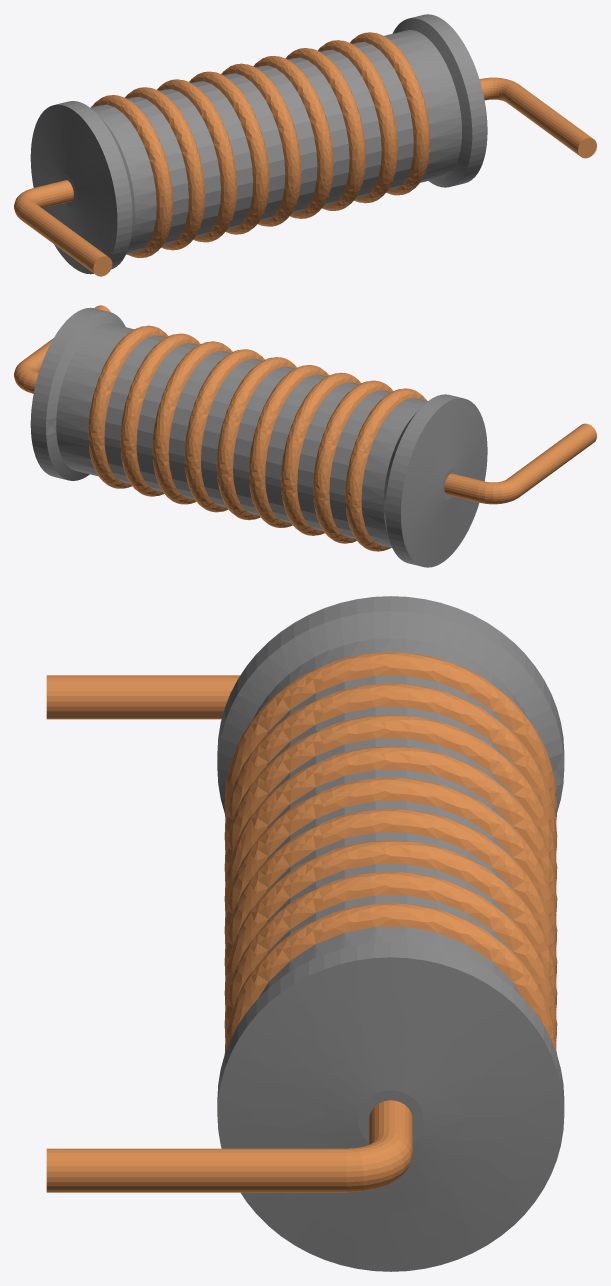
File: L_Axial_L16.0mm_D6.3mm_P20.32mm_Horizontal_Fastron_VHBCC.glb
3 renders of one model, top to bottom at view 1: azimuth 30°, elevation 25°; view 2: azimuth 150°, elevation 25°; view 3: azimuth 270°, elevation 25°, orthographic. The views are drawn at different scales.
Parts seen in each view (by area): view 1: Shape_IndexedFaceSet.029, Shape_IndexedFaceSet.005, Shape_IndexedFaceSet.026, Shape_IndexedFaceSet.021, Shape_IndexedFaceSet.019, Shape_IndexedFaceSet.025, Shape_IndexedFaceSet.011, Shape_IndexedFaceSet.017, Shape_IndexedFaceSet.023, Shape_IndexedFaceSet.015, Shape_IndexedFaceSet.007, Shape_IndexedFaceSet.013 (+16 smaller); view 2: Shape_IndexedFaceSet.029, Shape_IndexedFaceSet.005, Shape_IndexedFaceSet.026, Shape_IndexedFaceSet.011, Shape_IndexedFaceSet.025, Shape_IndexedFaceSet.013, Shape_IndexedFaceSet.015, Shape_IndexedFaceSet.019, Shape_IndexedFaceSet.023, Shape_IndexedFaceSet.017, Shape_IndexedFaceSet.021, Shape_IndexedFaceSet.007 (+16 smaller); view 3: Shape_IndexedFaceSet, Shape_IndexedFaceSet.008, Shape_IndexedFaceSet.027, Shape_IndexedFaceSet.021, Shape_IndexedFaceSet.017, Shape_IndexedFaceSet.023, Shape_IndexedFaceSet.011, Shape_IndexedFaceSet.015, Shape_IndexedFaceSet.013, Shape_IndexedFaceSet.025, Shape_IndexedFaceSet.019, Shape_IndexedFaceSet.007 (+16 smaller).
Boxes of the visible parts, <box> form: Shape_IndexedFaceSet.029: <box>30,104,117,274</box>; Shape_IndexedFaceSet.005: <box>384,30,461,182</box>; Shape_IndexedFaceSet.026: <box>90,104,156,254</box>; Shape_IndexedFaceSet.021: <box>157,79,237,242</box>; Shape_IndexedFaceSet.019: <box>189,71,269,234</box>; Shape_IndexedFaceSet.025: <box>91,95,172,257</box>; Shape_IndexedFaceSet.011: <box>318,40,397,203</box>; Shape_IndexedFaceSet.017: <box>221,63,301,226</box>; Shape_IndexedFaceSet.023: <box>125,87,205,250</box>; Shape_IndexedFaceSet.015: <box>253,56,333,218</box>; Shape_IndexedFaceSet.007: <box>350,32,429,195</box>; Shape_IndexedFaceSet.013: <box>285,48,365,210</box>; Shape_IndexedFaceSet.029: <box>401,398,487,567</box>; Shape_IndexedFaceSet.005: <box>56,323,133,476</box>; Shape_IndexedFaceSet.026: <box>361,398,427,547</box>; Shape_IndexedFaceSet.011: <box>120,333,200,496</box>; Shape_IndexedFaceSet.025: <box>345,388,426,551</box>; Shape_IndexedFaceSet.013: <box>152,341,232,504</box>; Shape_IndexedFaceSet.015: <box>184,349,264,512</box>; Shape_IndexedFaceSet.019: <box>249,365,329,527</box>; Shape_IndexedFaceSet.023: <box>313,380,393,543</box>; Shape_IndexedFaceSet.017: <box>216,357,296,520</box>; Shape_IndexedFaceSet.021: <box>281,372,360,535</box>; Shape_IndexedFaceSet.007: <box>88,325,168,488</box>; Shape_IndexedFaceSet: <box>217,957,564,1271</box>; Shape_IndexedFaceSet.008: <box>46,1148,346,1192</box>; Shape_IndexedFaceSet.027: <box>217,611,564,813</box>; Shape_IndexedFaceSet.021: <box>224,715,557,881</box>; Shape_IndexedFaceSet.017: <box>224,777,557,944</box>; Shape_IndexedFaceSet.023: <box>224,683,557,850</box>; Shape_IndexedFaceSet.011: <box>224,871,557,1038</box>; Shape_IndexedFaceSet.015: <box>224,809,557,976</box>; Shape_IndexedFaceSet.013: <box>224,840,557,1007</box>; Shape_IndexedFaceSet.025: <box>224,652,557,819</box>; Shape_IndexedFaceSet.019: <box>224,746,557,912</box>; Shape_IndexedFaceSet.007: <box>224,903,557,1054</box>.
Size of the model in its own units: 8.31 by 2.48 by 3.7.
